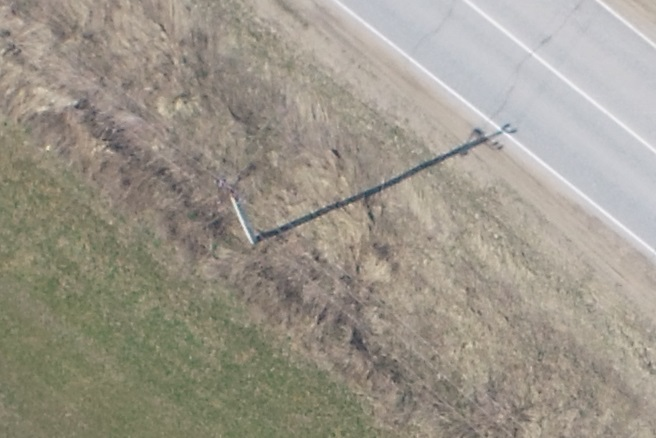opora: (217, 171, 318, 249)
